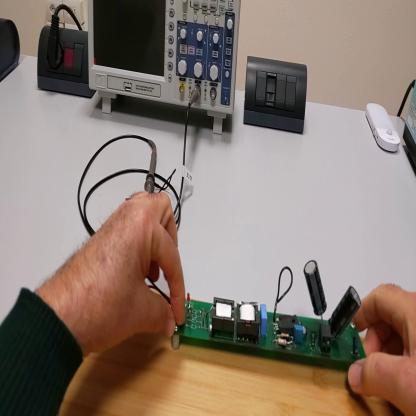hand: (71, 186, 186, 355), (348, 281, 416, 406)
high voltage board: (147, 259, 365, 370)
oscilloscope: (88, 2, 242, 137)
socket: (37, 20, 96, 97), (2, 12, 22, 85)
welder station: (403, 80, 416, 175)
working area: (61, 290, 402, 415)
